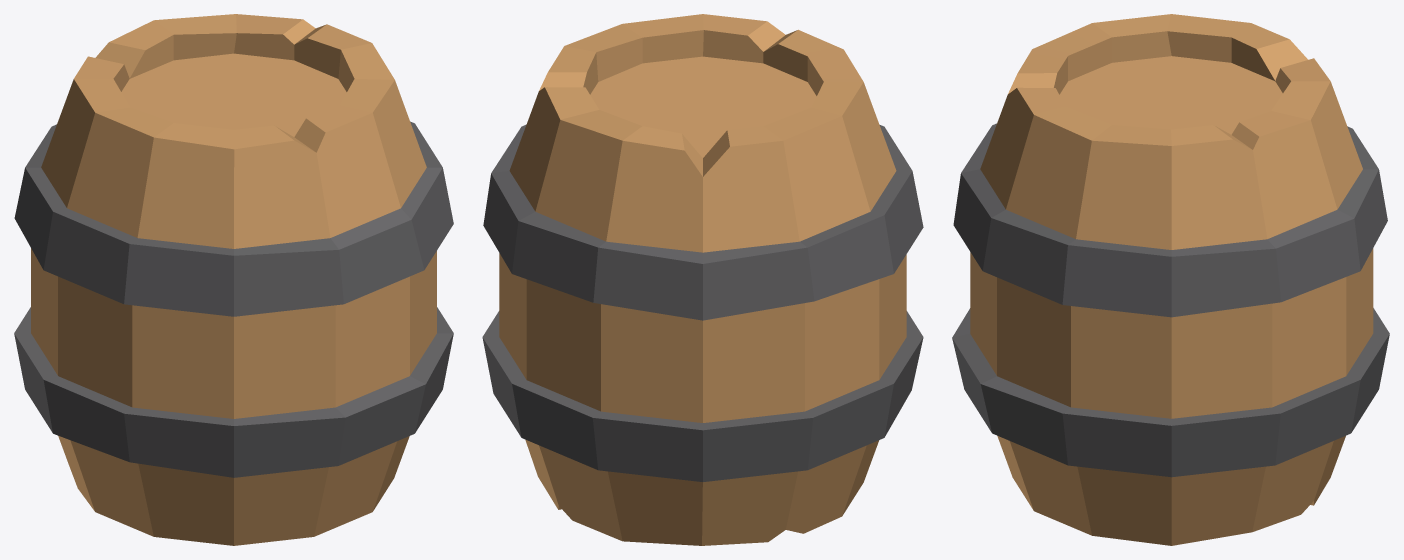
The model's file is barrel.fbx.
3 renders of one model, left to right at view 1: azimuth 30°, elevation 25°; view 2: azimuth 150°, elevation 25°; view 3: azimuth 270°, elevation 25°, orthographic.
Parts seen in each view (by area): view 1: Barrel; view 2: Barrel; view 3: Barrel.
Boxes of the visible parts, box(x1,y1,x2,y2) form: Barrel: box(14, 14, 453, 545); Barrel: box(482, 14, 923, 545); Barrel: box(952, 14, 1389, 545).
Size of the model in its own units: 197 by 200 by 198.
